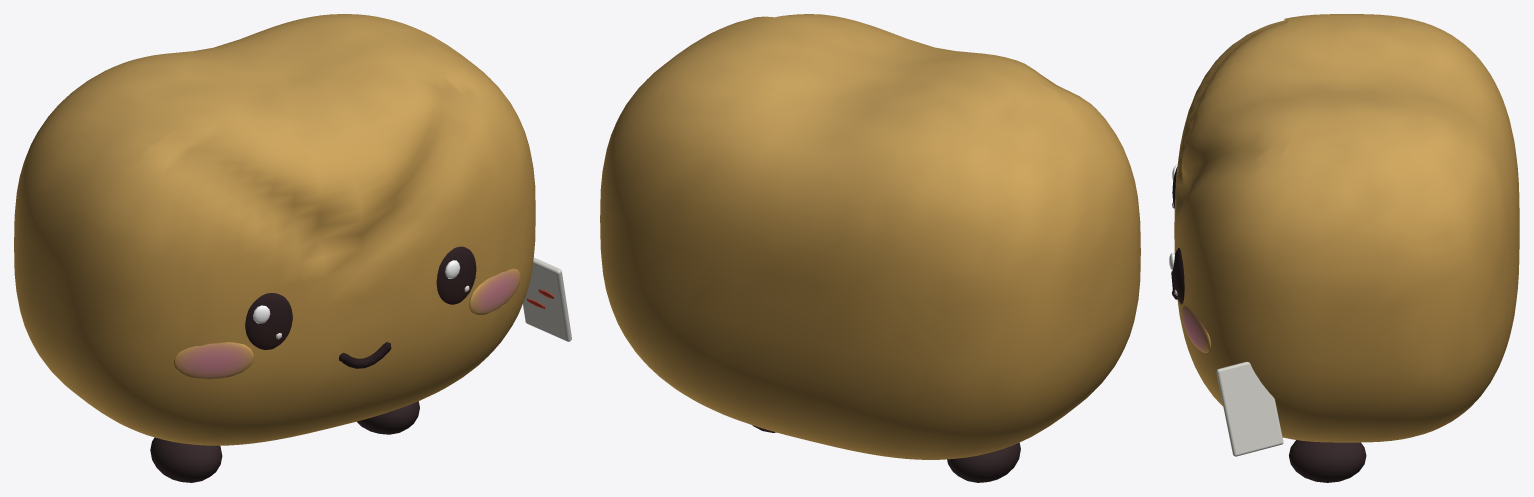
The model's file is folk_fortune.glb.
3 views of the same model, side by side, from view 1: azimuth 30°, elevation 25°; view 2: azimuth 150°, elevation 25°; view 3: azimuth 270°, elevation 25° (orthographic). The views are drawn at different scales.
Parts seen in each view (by area): view 1: fortune_body, fortune_foot_l, fortune_eye_l, fortune_eye_r, fortune_foot_r; view 2: fortune_body, fortune_foot_l; view 3: fortune_body, fortune_foot_r, fortune_eye_r.
Part boxes in pixels (left/top/right/bottom): fortune_body: left=14, top=14, right=571, bottom=445; fortune_foot_l: left=150, top=437, right=222, bottom=482; fortune_eye_l: left=245, top=293, right=292, bottom=349; fortune_eye_r: left=436, top=246, right=476, bottom=304; fortune_foot_r: left=357, top=401, right=419, bottom=434; fortune_body: left=600, top=14, right=1140, bottom=459; fortune_foot_l: left=947, top=442, right=1020, bottom=482; fortune_body: left=1171, top=14, right=1519, bottom=456; fortune_foot_r: left=1289, top=440, right=1366, bottom=482; fortune_eye_r: left=1169, top=248, right=1184, bottom=304.
Size of the model in its own units: 0.9745 by 0.7688 by 0.6723.
